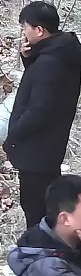smoking: (2, 1, 80, 75)
